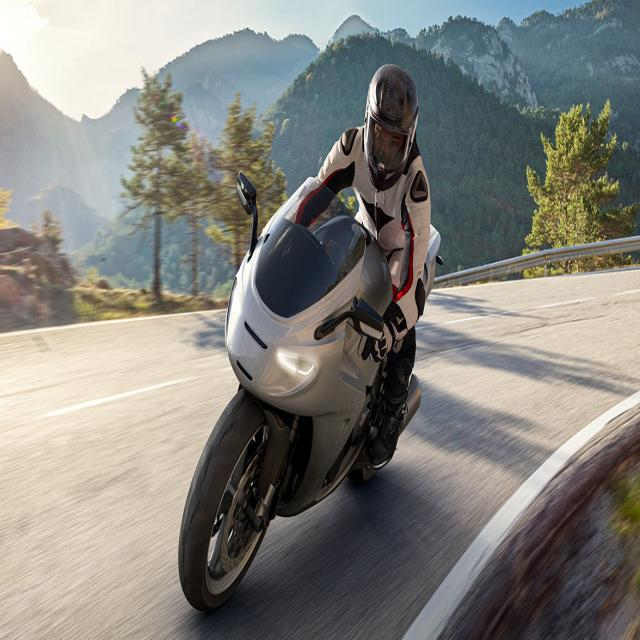motorcycle: (179, 64, 440, 610)
